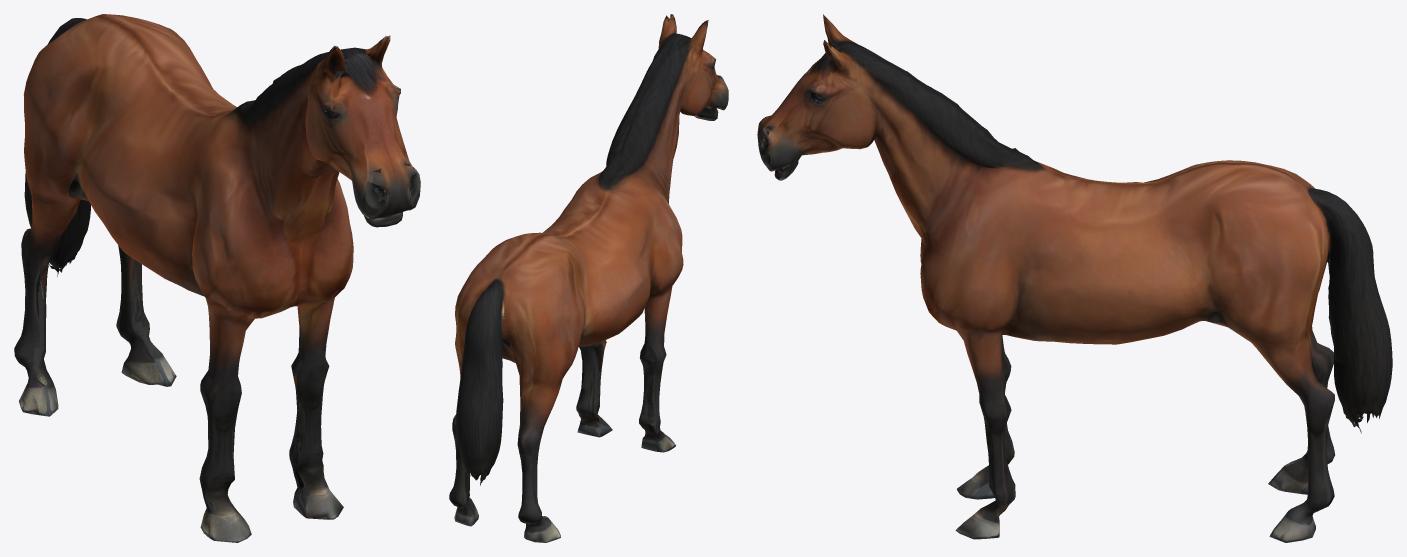
The model's file is Pferd_Meshy.glb.
3 views of the same model, side by side, from view 1: azimuth 30°, elevation 25°; view 2: azimuth 150°, elevation 25°; view 3: azimuth 270°, elevation 25° (orthographic). The views are drawn at different scales.
Size of the model in its own units: 0.5339 by 1.67 by 1.98.
1 material, 1 textured.
